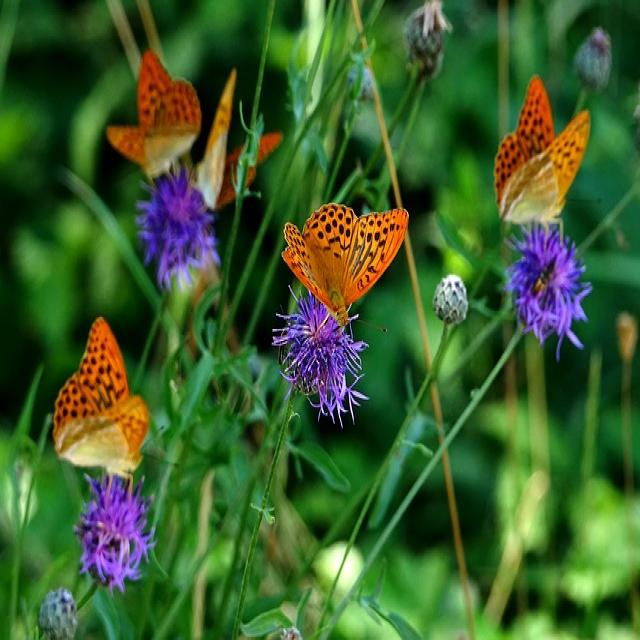butterfly: (50, 318, 150, 482), (281, 204, 410, 331), (493, 77, 593, 230), (106, 50, 202, 177)
